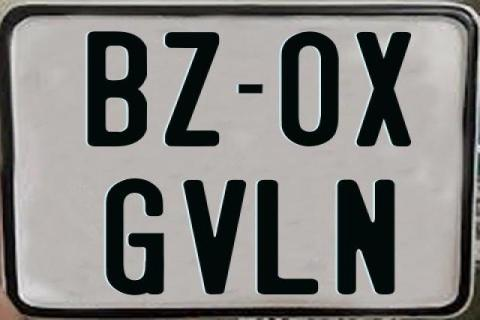0: (280, 31, 344, 150)
B: (86, 29, 147, 145)
G: (105, 176, 169, 297)
L: (255, 180, 321, 297)
N: (334, 178, 395, 296)
V: (183, 178, 246, 294)
X: (355, 31, 413, 147)
Z: (164, 30, 224, 150)
